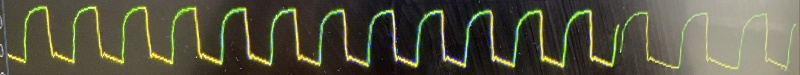normal_pressure: (0, 0, 778, 75)
